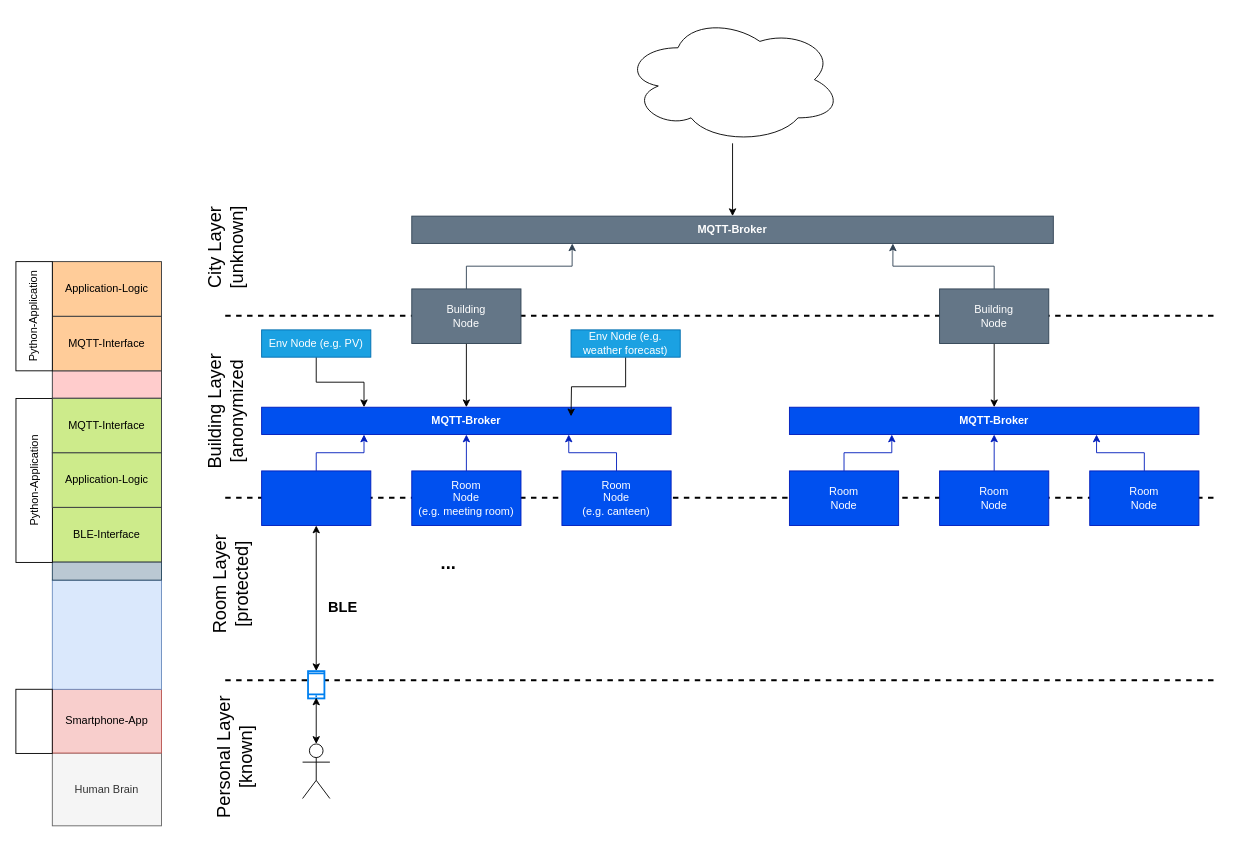
Some shapes in this 1235 by 843 pixel diagram are drawn without their labels. The box of each missing label's shape, as (x1, y1, x2, y2) in pixels:
BLE GATT: (51, 579, 162, 689)
BLE Modul: (51, 561, 162, 580)
Cloud-Logic: (622, 15, 842, 143)
Human: (302, 743, 330, 799)
Java-App: (15, 688, 52, 753)
MQTT: (51, 370, 162, 398)
Room Node (e.g. office): (261, 470, 371, 526)
